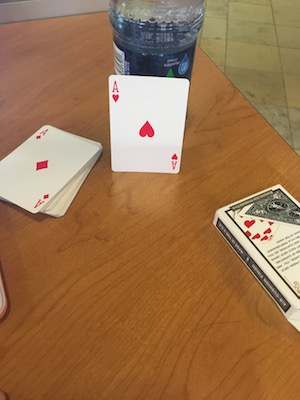AceOfDiamonds: (2, 122, 102, 210)
AceOfHearts: (104, 73, 191, 177)
